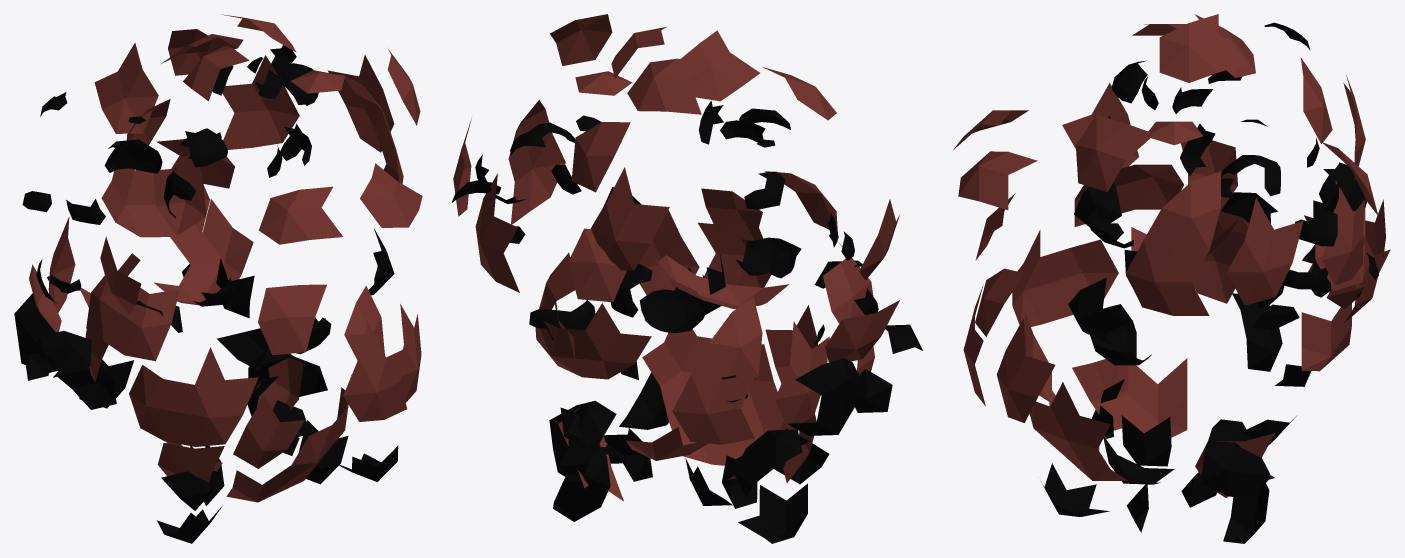
The model's file is explode.f0007.glb.
The picture shows the model from 3 angles, left to right: view 1: azimuth 30°, elevation 25°; view 2: azimuth 150°, elevation 25°; view 3: azimuth 270°, elevation 25°; orthographic projection. The views are drawn at different scales.
Visible parts, largest first — view 1: Body.001; view 2: Body.001; view 3: Body.001.
Part boxes in pixels (x1,y1,x2,y2): Body.001: [14, 14, 422, 543]; Body.001: [451, 14, 922, 543]; Body.001: [953, 14, 1390, 543].
Bounding box in the file's own units: 3.99 × 4.74 × 3.72.
1 material, 1 textured.
